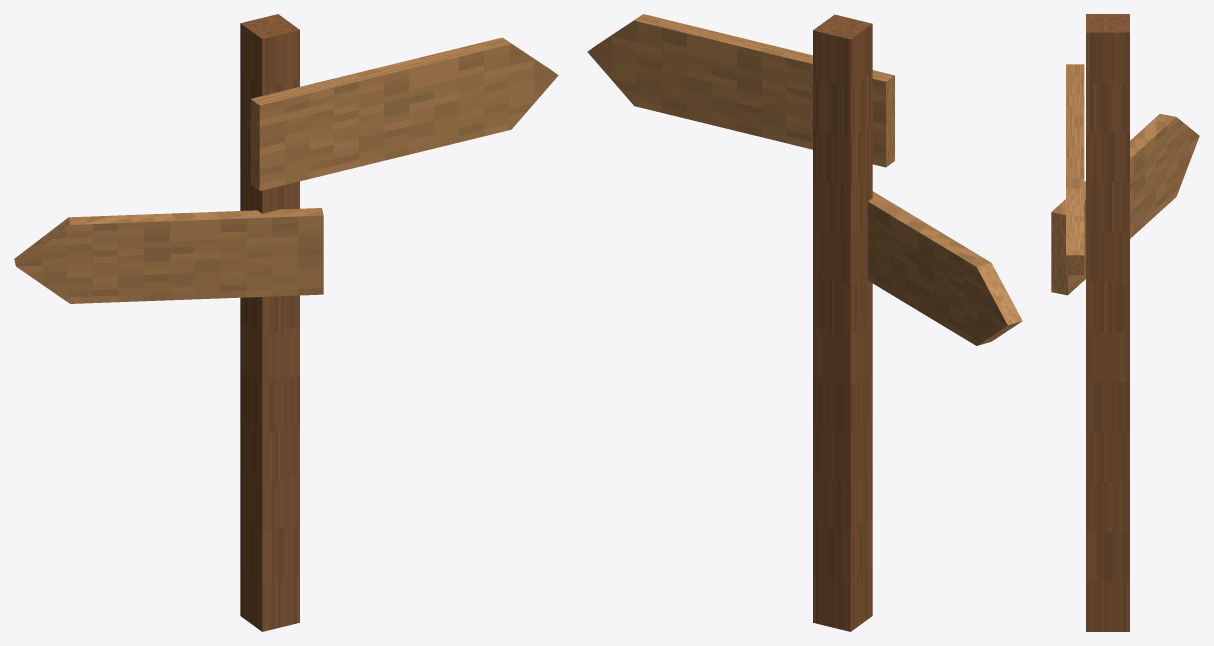
Rendered from signpost.glb.
The picture shows the model from 3 angles, left to right: view 1: azimuth 30°, elevation 25°; view 2: azimuth 150°, elevation 25°; view 3: azimuth 270°, elevation 25°; orthographic projection.
Parts seen in each view (by area): view 1: signpost; view 2: signpost; view 3: signpost.
Boxes of the visible parts, x1,y1,x2,y2 form: signpost: (14,14,558,631); signpost: (587,14,1022,631); signpost: (1051,14,1199,631).
Size of the model in its own units: 1.54 by 1.8 by 0.4045.
Materials: 1 (1 with a texture image).
